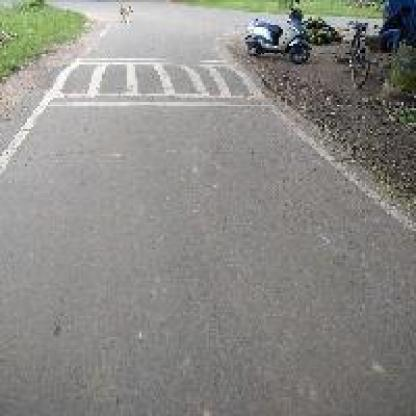Speed Bump: (38, 54, 274, 108)
